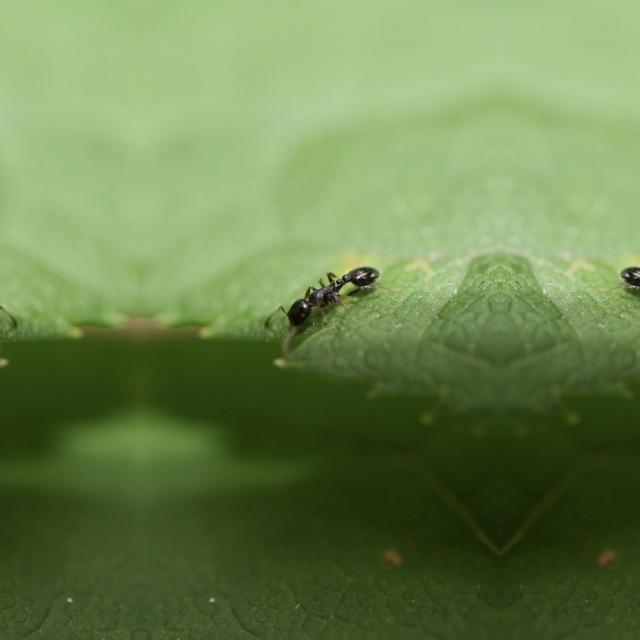Temnothorax: (266, 248, 382, 349), (616, 248, 640, 348)
